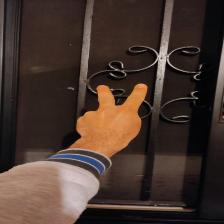two: (71, 83, 153, 146)
